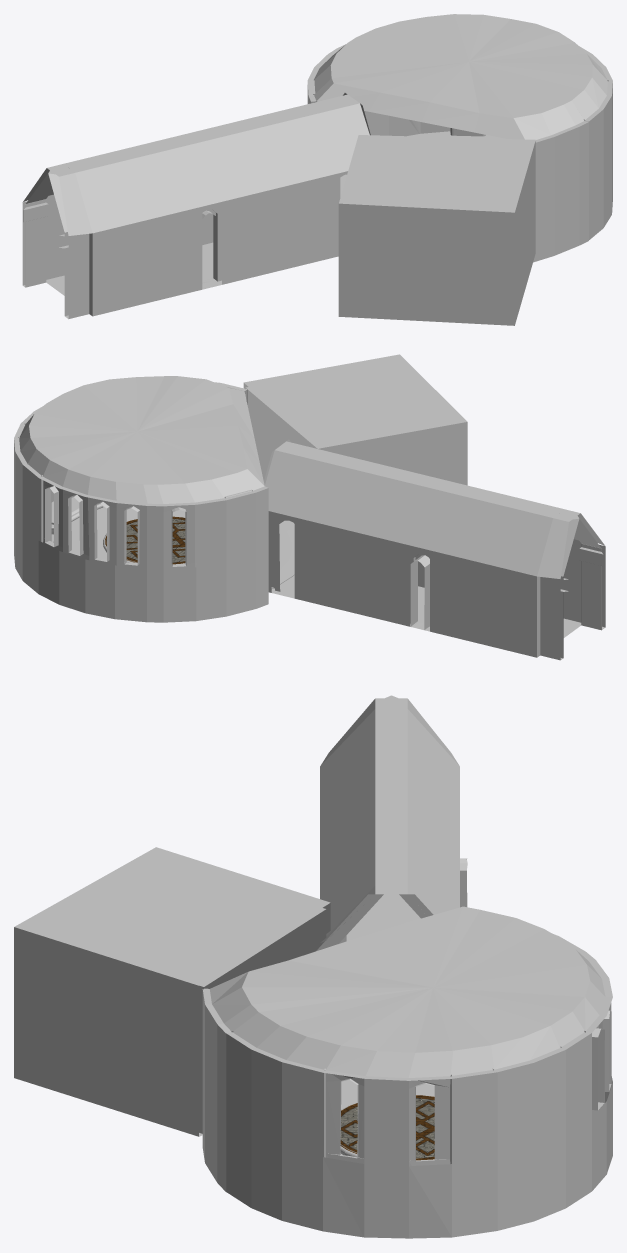
Rendered from pasillos_nosferatu.fbx.
The picture shows the model from 3 angles, top to bottom: view 1: azimuth 30°, elevation 25°; view 2: azimuth 150°, elevation 25°; view 3: azimuth 270°, elevation 25°; orthographic projection. The views are drawn at different scales.
Parts seen in each view (by area): view 1: Plane001, polySurface1, pPlane17; view 2: polySurface1, Plane001, pPlane17; view 3: polySurface1, pPlane17, Plane001.
Part boxes in pixels (left/top/right/bottom): Plane001: left=22, top=93, right=370, bottom=319; polySurface1: left=307, top=14, right=612, bottom=262; pPlane17: left=338, top=135, right=535, bottom=325; polySurface1: left=14, top=376, right=294, bottom=622; Plane001: left=264, top=439, right=605, bottom=660; pPlane17: left=243, top=354, right=467, bottom=485; polySurface1: left=202, top=906, right=612, bottom=1238; pPlane17: left=14, top=847, right=330, bottom=1136; Plane001: left=316, top=695, right=467, bottom=951.
Bounding box in the file's own units: 1964 × 468 × 1369.
